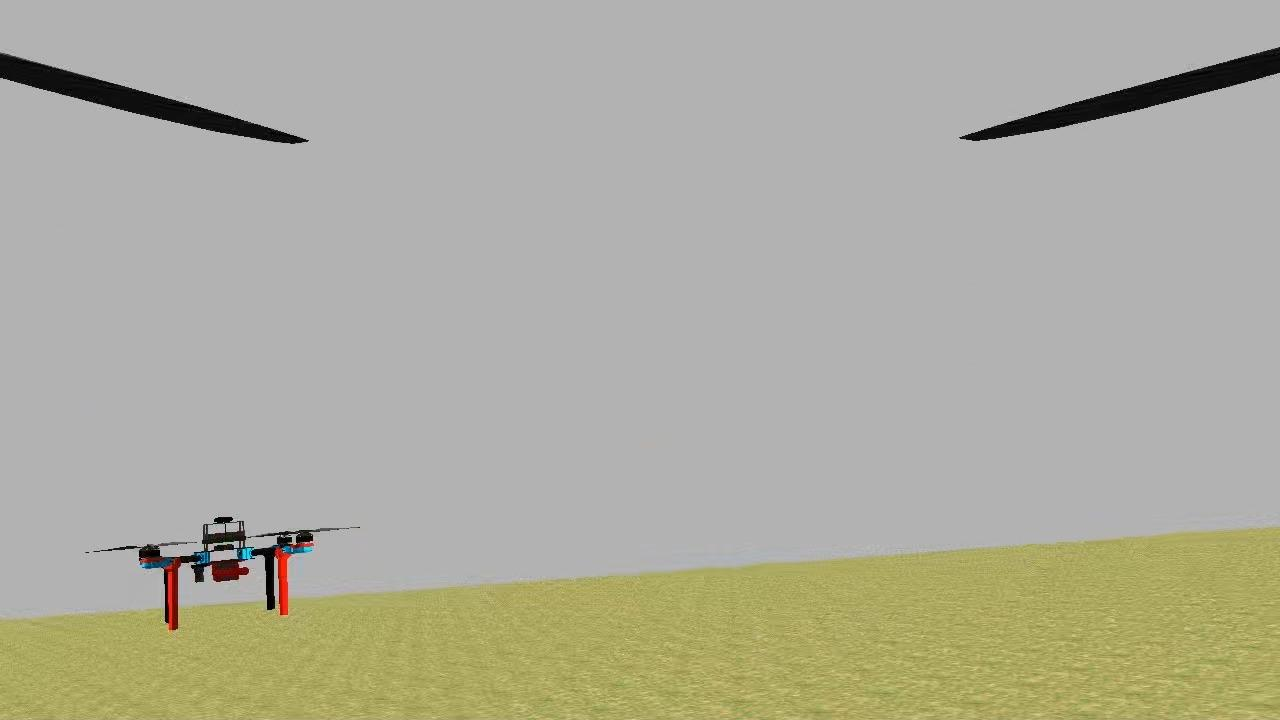UAV: (134, 504, 324, 636)
